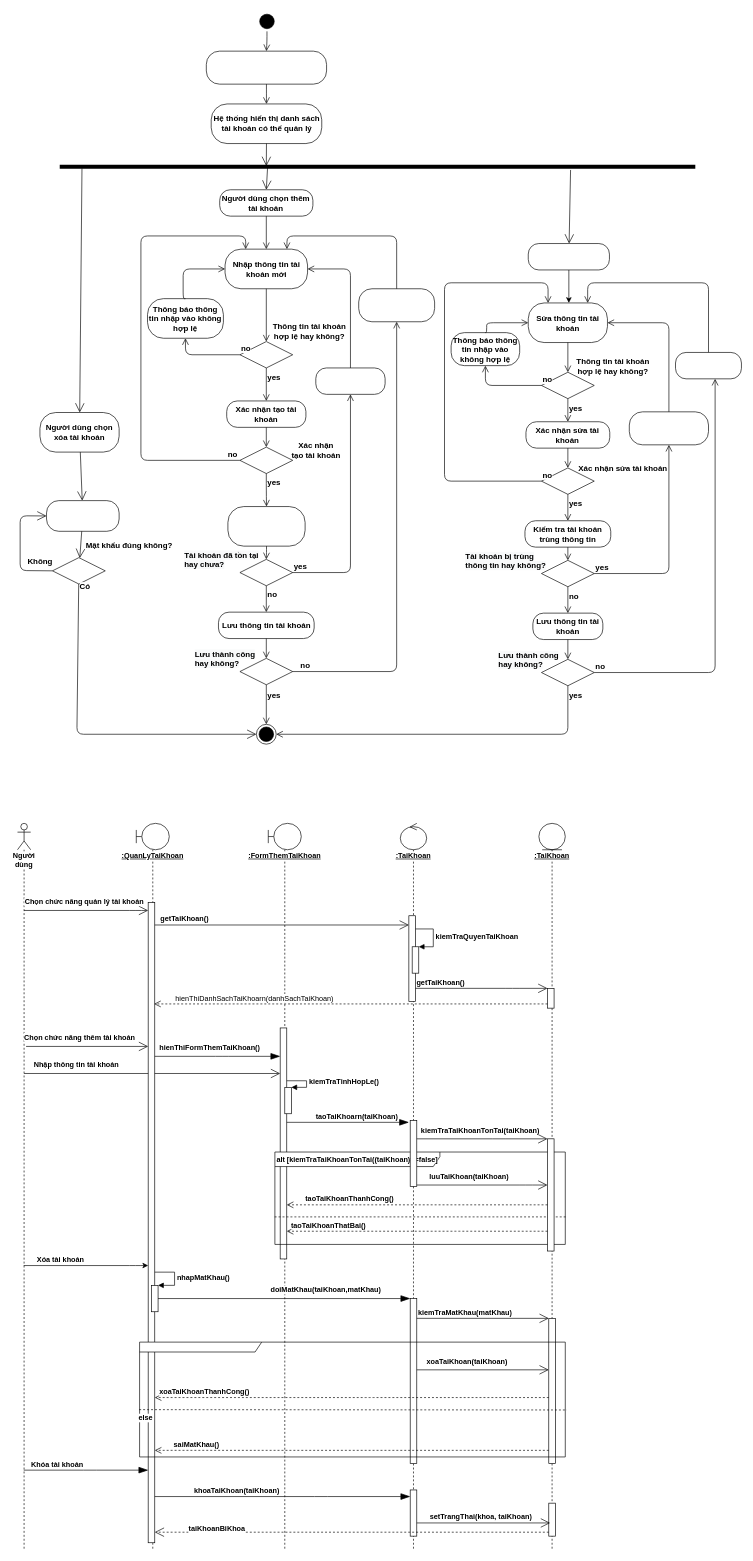
The diagram is 753 pixels wide and 1561 high, and some of its shapes have lost their labels. Each missing label, with the centre of its shape:
"alt [kiemTraMatKhau()==true]" belongs at (x=352, y=1399).
"Hiển thị thông báo lỗi không xác định" belongs at (x=396, y=305).
"Kiểm tra tài khoản đã tồn tại." belongs at (x=266, y=526).
"Người dùng chọn chức năng thêm tài khoản" belongs at (x=266, y=67).
"Người dùng chọn sửa tài khoản" belongs at (x=568, y=256).
"Nhập mật khẩu xác nhận" belongs at (x=82, y=515).
"Thông báo lỗi không xác định" belongs at (x=708, y=365).
"Thông báo tài khoản bi trùng thông tin" belongs at (x=669, y=428).
"Thông báo tài khoản đã tồn tại" belongs at (x=350, y=380).
